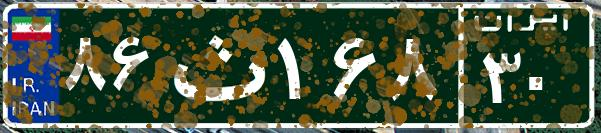0: (525, 38, 570, 115)
1: (273, 28, 330, 110)
3: (475, 38, 525, 113)
6: (330, 28, 385, 110), (110, 28, 158, 105)
8: (385, 28, 445, 110), (57, 26, 110, 107)
ث: (158, 15, 273, 115)
